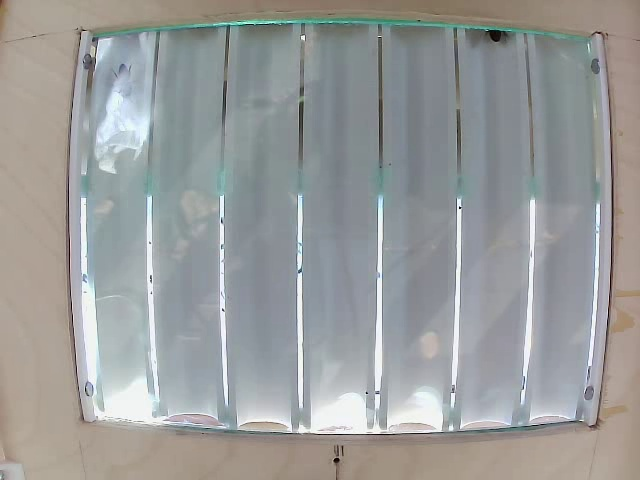bee: (108, 60, 140, 103)
